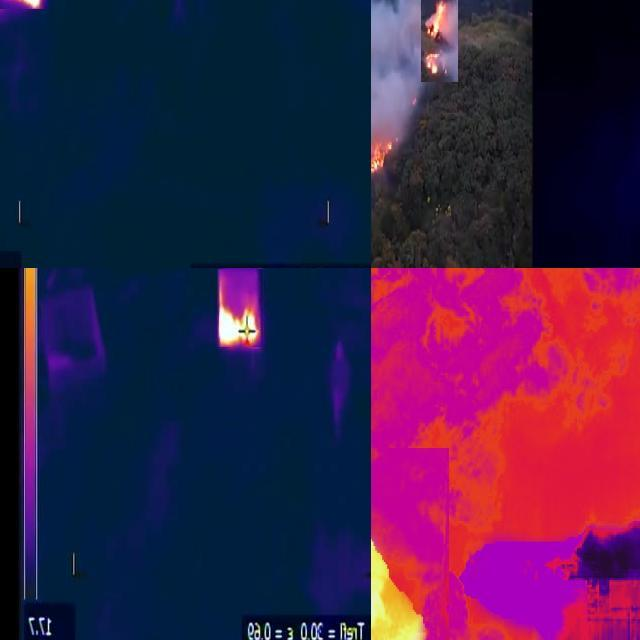fire: (370, 539, 428, 640), (218, 270, 264, 348)
